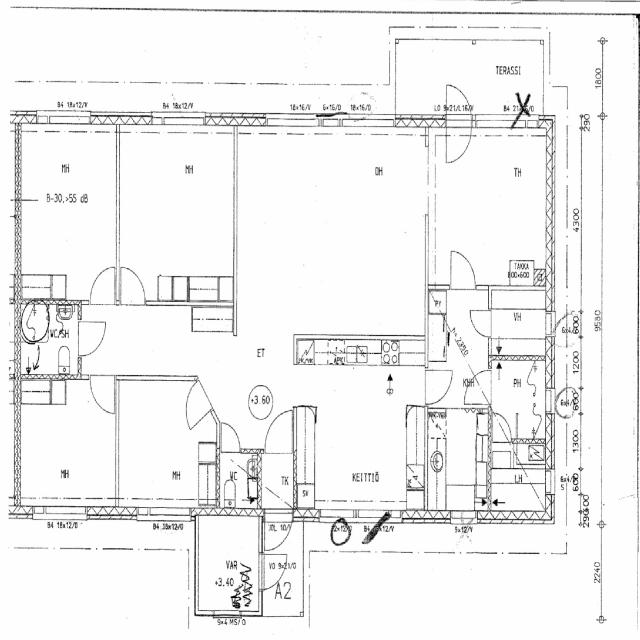door: (176, 380, 212, 429), (265, 511, 292, 562), (446, 110, 471, 158), (446, 76, 471, 123), (265, 411, 292, 453), (450, 251, 476, 291), (90, 265, 115, 304), (424, 370, 452, 404), (78, 322, 106, 356), (90, 375, 115, 413), (121, 265, 145, 304), (464, 370, 491, 404), (259, 555, 286, 589), (469, 310, 491, 337), (492, 412, 511, 443), (221, 422, 239, 453)
